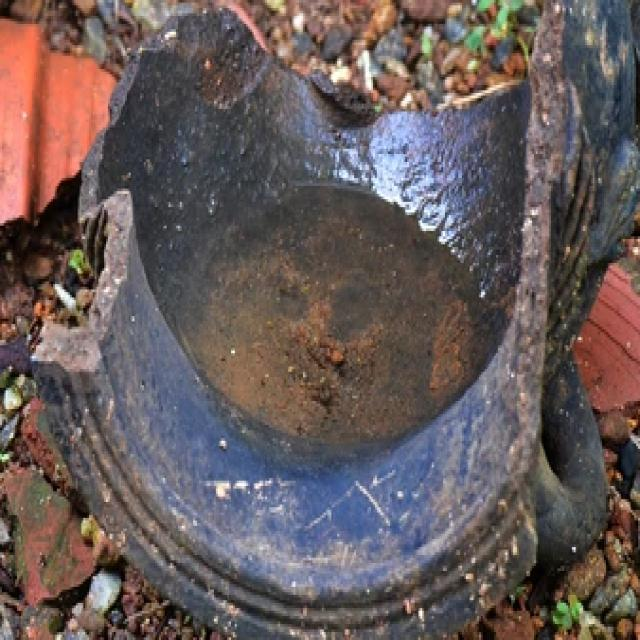Breeding Place: (99, 33, 550, 616)
